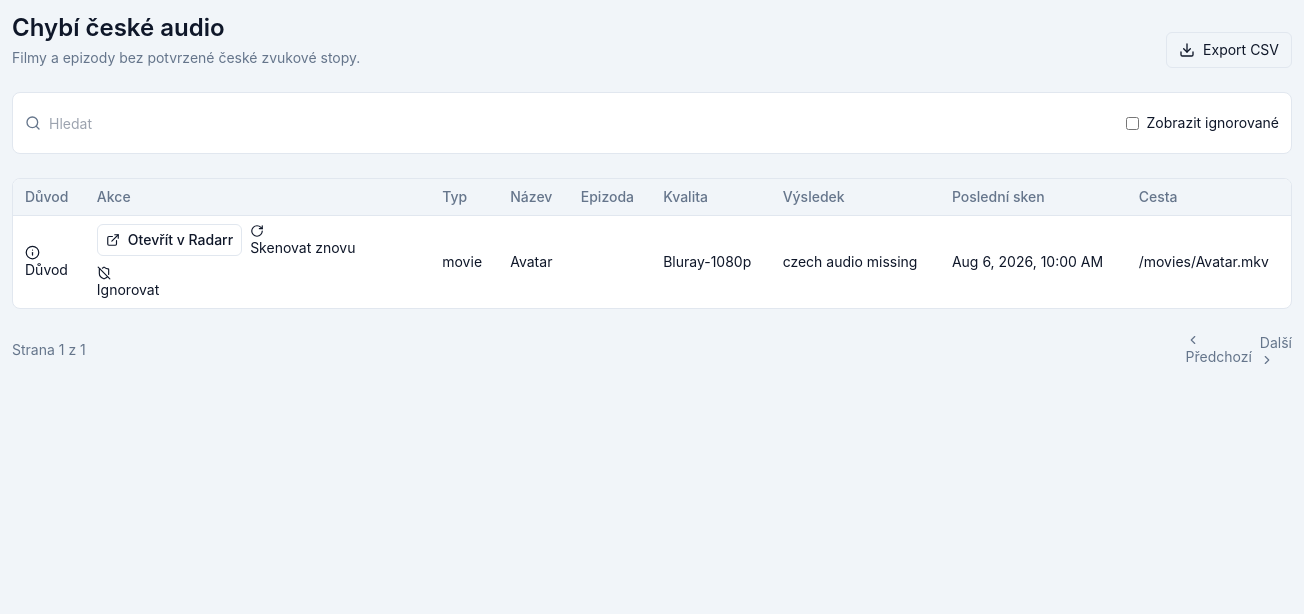
Scenario: media pages › expands missing audio diagnostics lazily
Click the button "Důvod" at (46, 262), box [25,244,68,280]
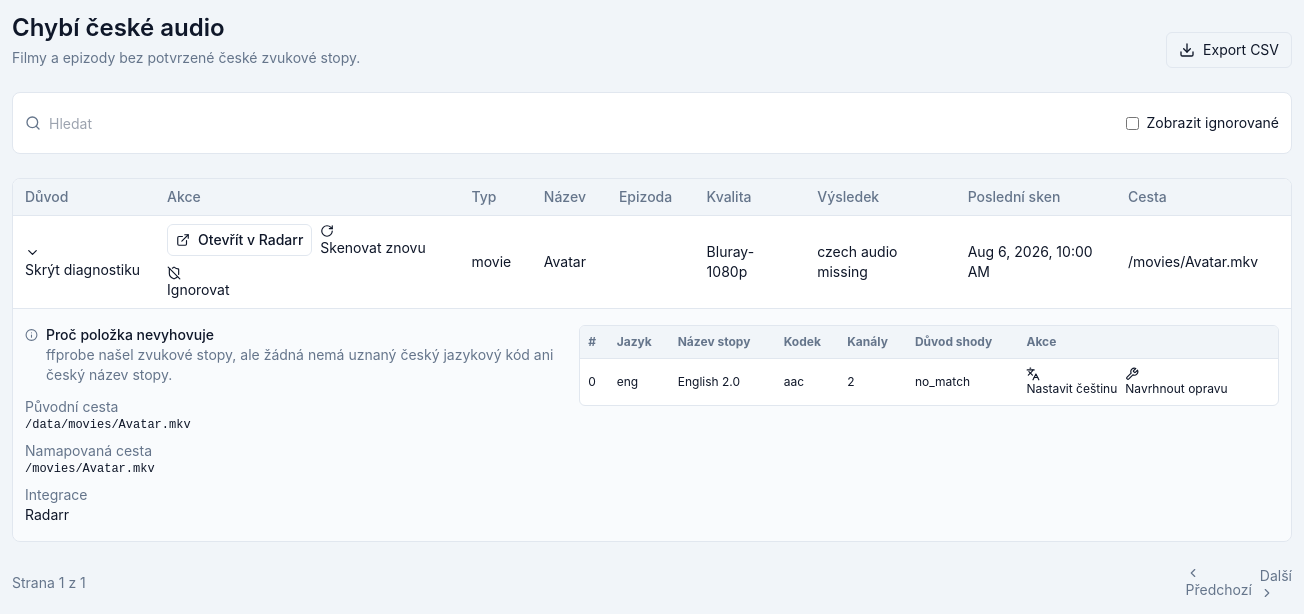
Expected: the text "Proč položka nevyhovuje" is shown, [46,326,214,343]
Expected: the text "English 2.0" is shown, [670,358,776,405]
Expected: the text "no_match" is shown, [907,358,1018,405]
